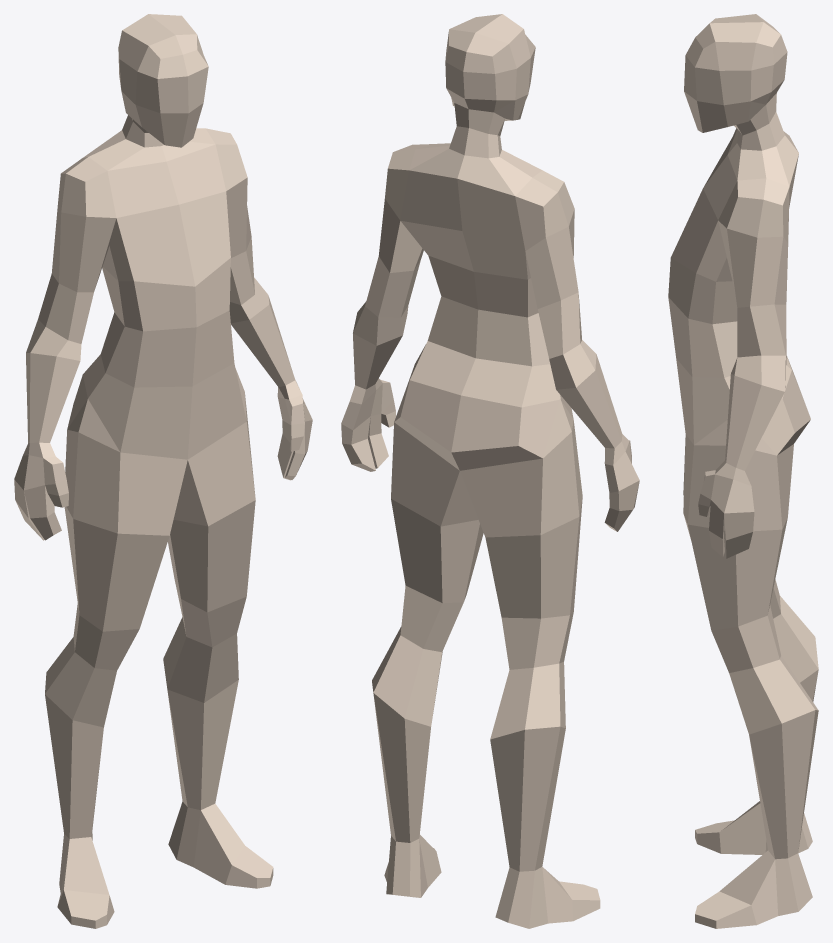
3 views of the same model, side by side, from view 1: azimuth 30°, elevation 25°; view 2: azimuth 150°, elevation 25°; view 3: azimuth 270°, elevation 25° (orthographic).
Visible parts, largest first — view 1: Cube.001; view 2: Cube.001; view 3: Cube.001.
Part boxes in pixels (left/top/right/bottom): Cube.001: left=14, top=14, right=312, bottom=928; Cube.001: left=341, top=14, right=639, bottom=928; Cube.001: left=668, top=14, right=818, bottom=928.
Size of the model in its own units: 58.63 by 168 by 26.75.
